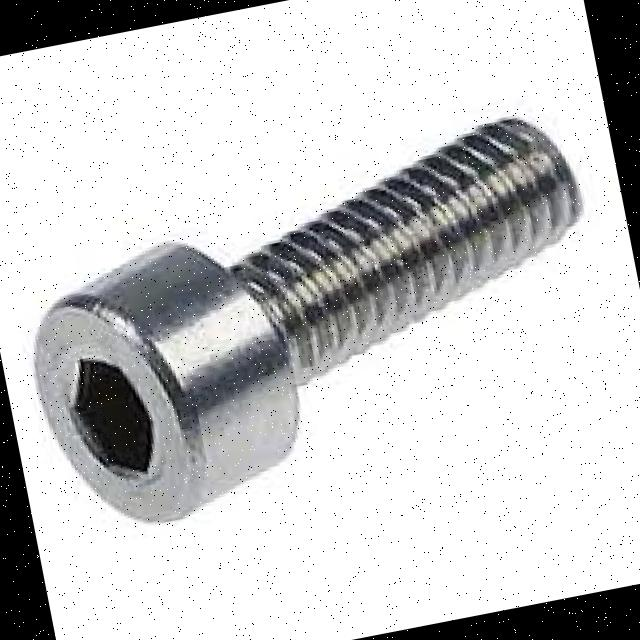Hex Socket Allen: (20, 282, 207, 543)
